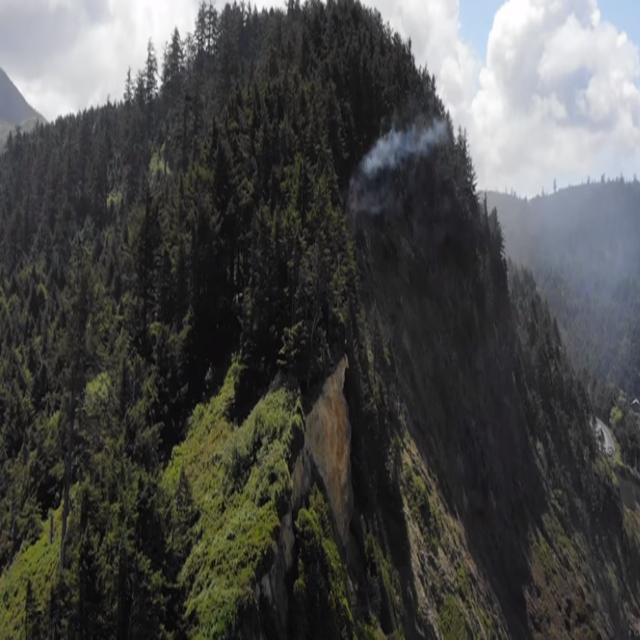Smoke: (360, 126, 455, 184)
